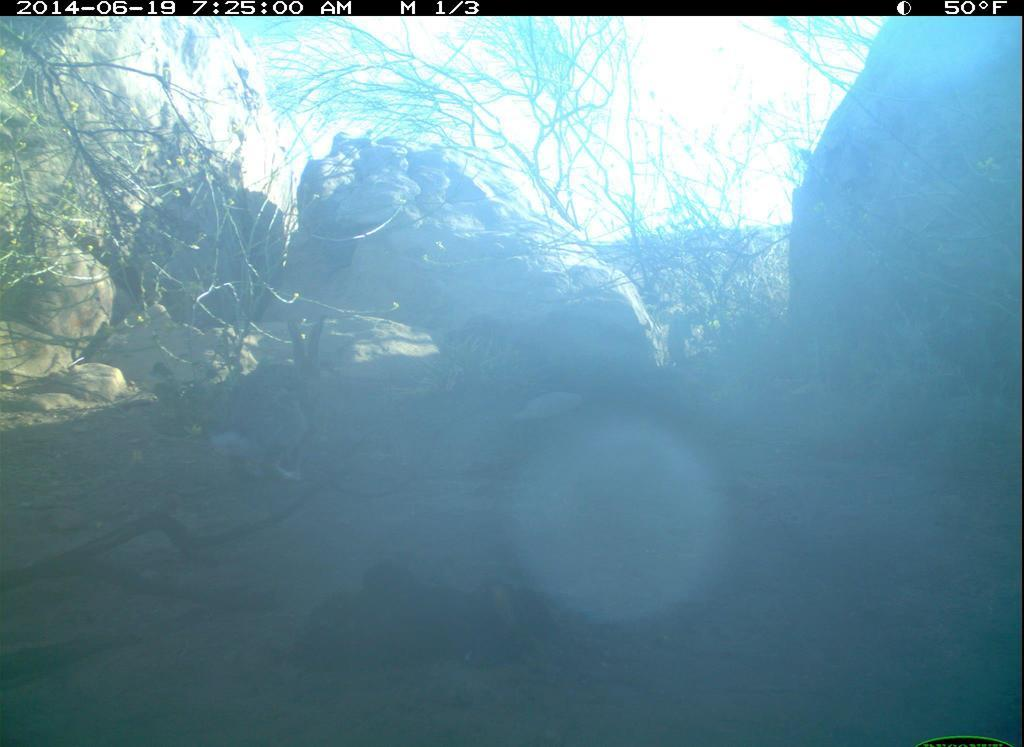rabbit: (216, 382, 321, 492)
